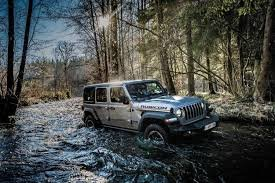mobil: (81, 78, 218, 143)
